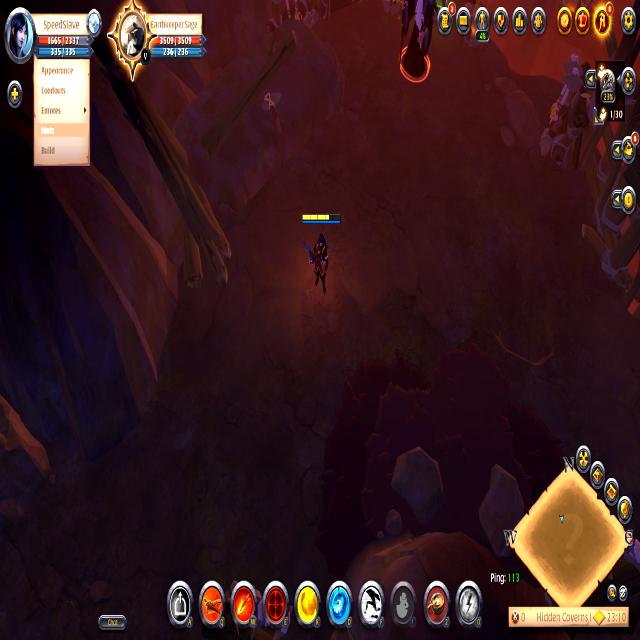ore: (394, 0, 446, 89)
red: (296, 208, 346, 308)
